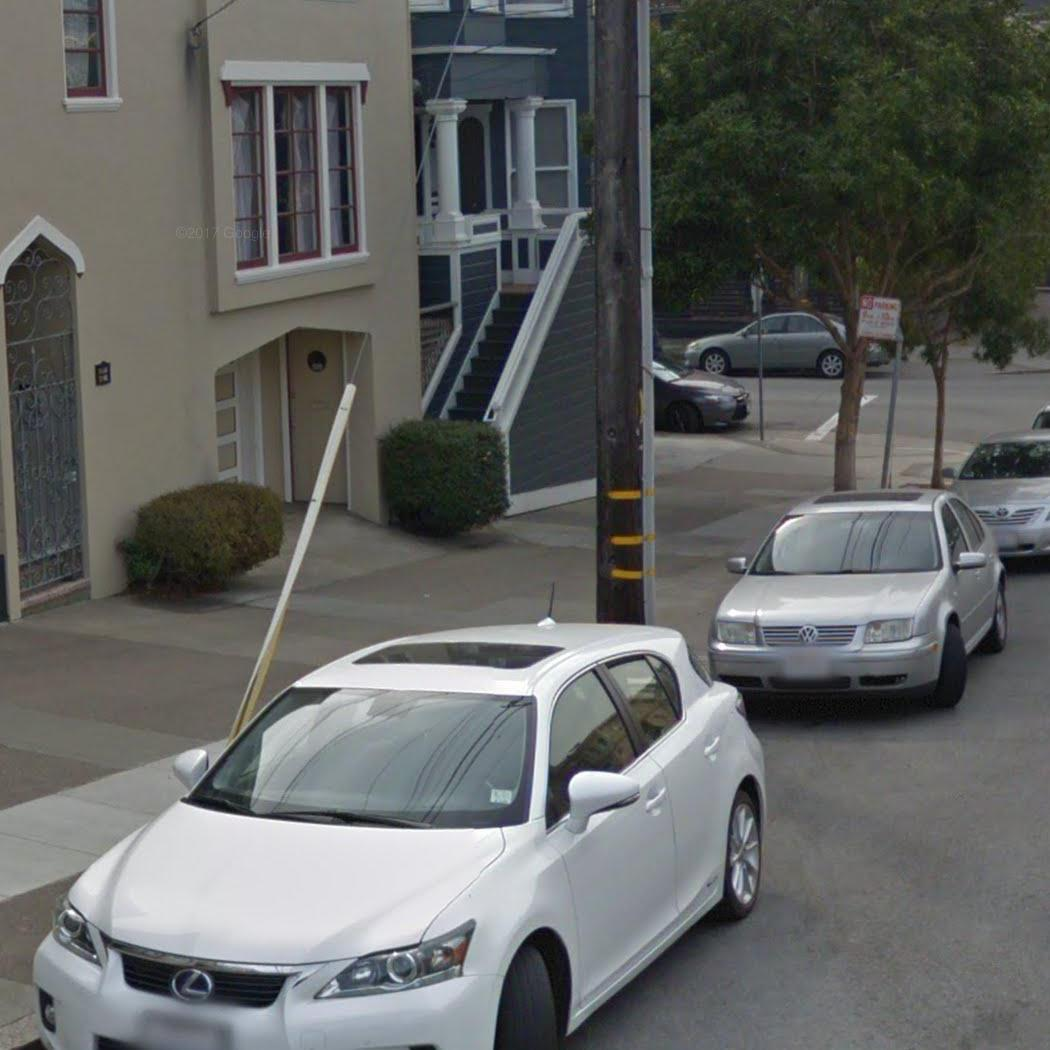No Parking: (852, 290, 905, 344)
